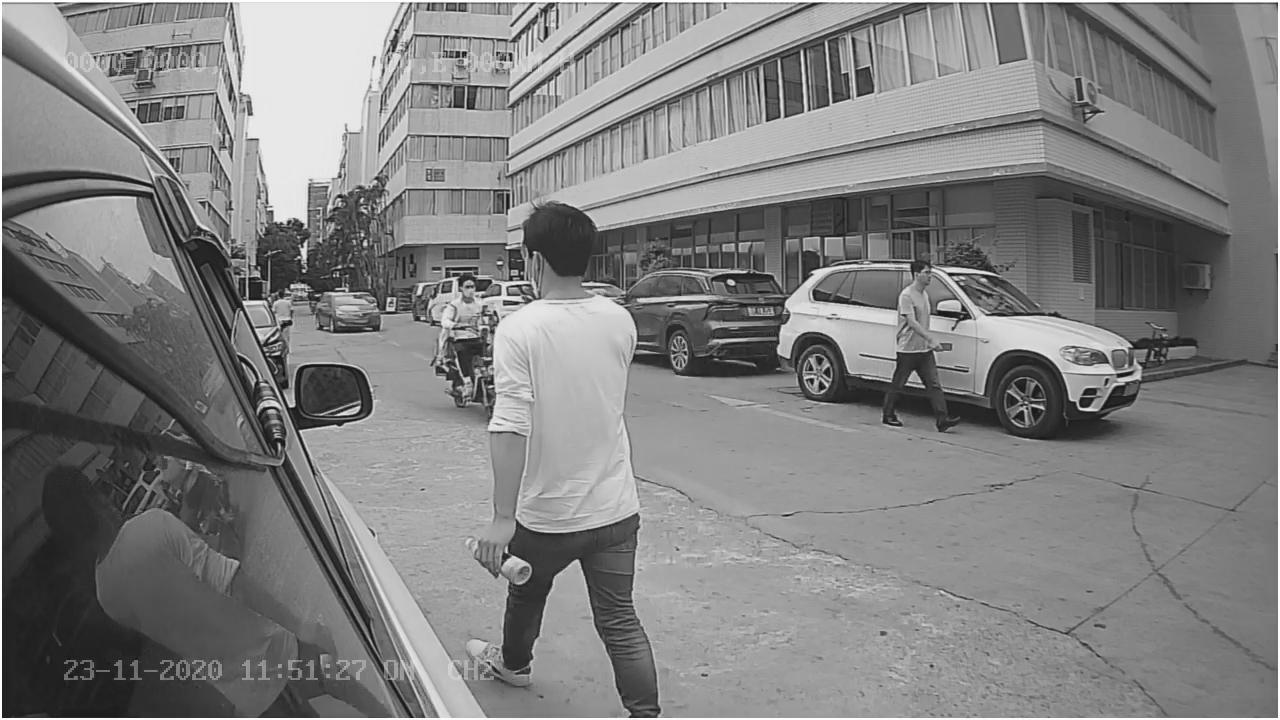person: (475, 203, 666, 471), (871, 253, 968, 440)
